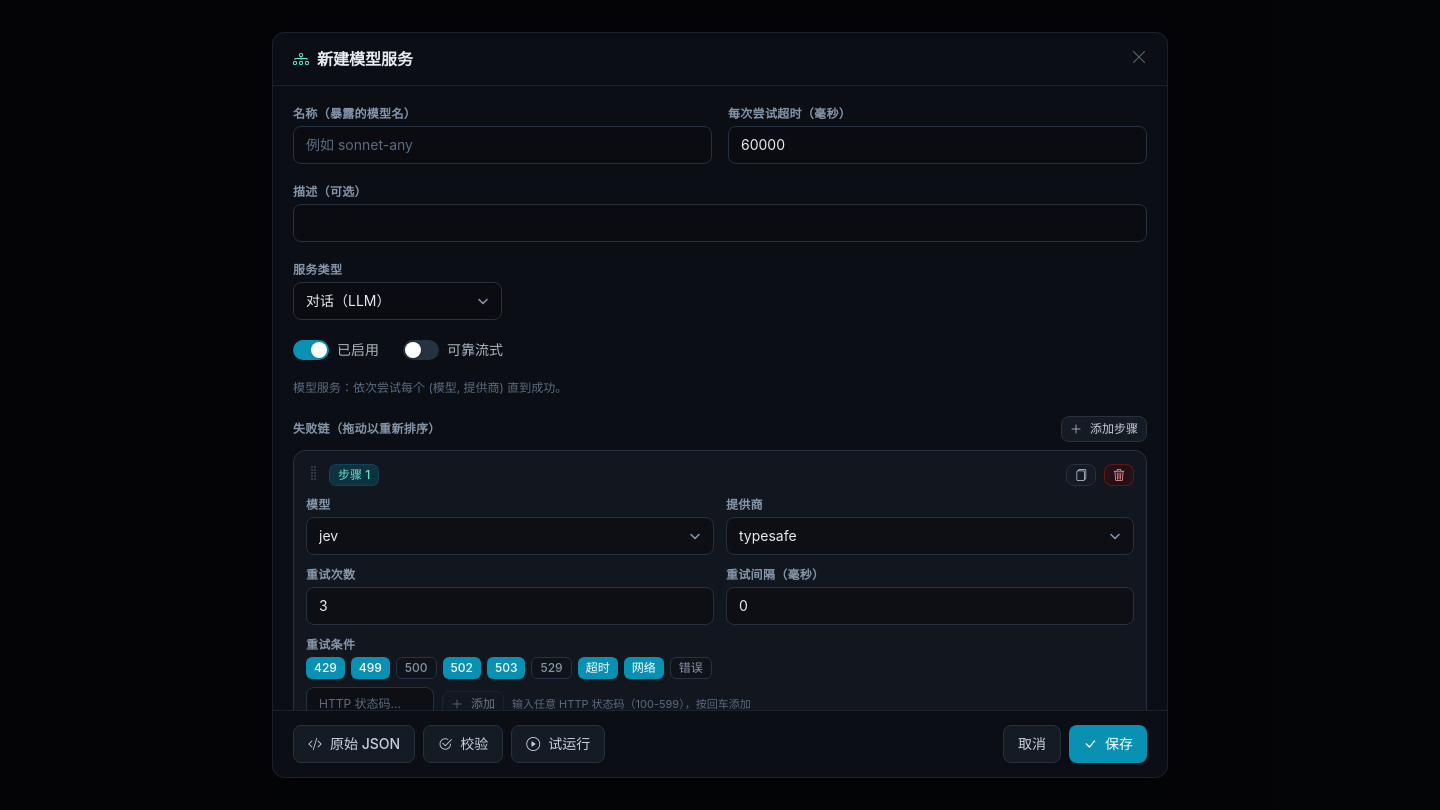
Test: classification service editor › localizes the classification label and native endpoint hint in Chinese
Step 1. Select "语义分类（Jev / Laya）" in the dropdown below "服务类型" → (398, 301), box top-left (293, 282), bottom-right (502, 320)
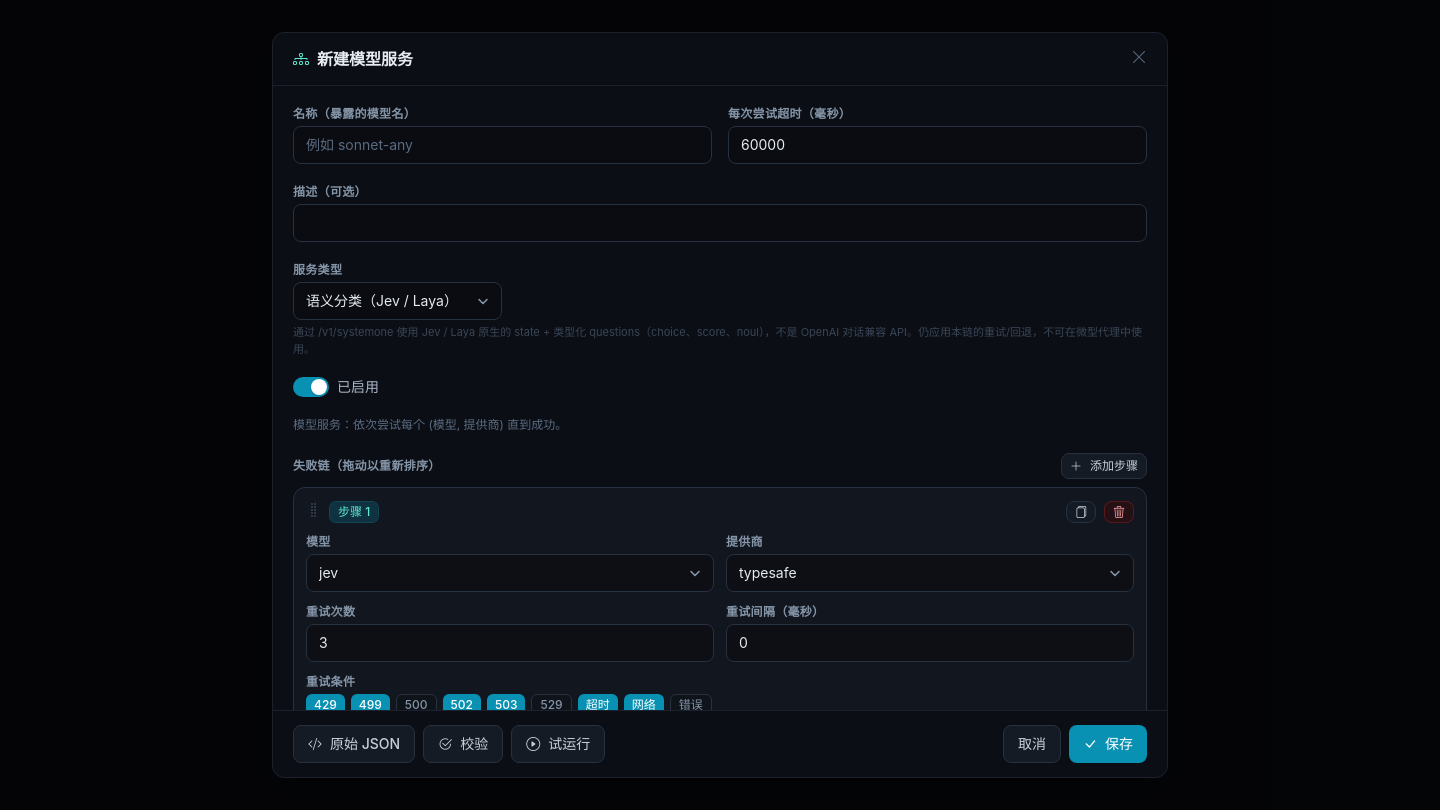
Expected: the text "通过 /v1/systemone 使用 Jev" shows "类型化 questions（choice、score、noul）", top-left (293, 325), bottom-right (1142, 356)
Expected: the text "不是 OpenAI 对话兼容 API" shows "不可在微型代理中使用", top-left (293, 325), bottom-right (1142, 356)
